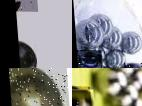ironball: (7, 68, 70, 105), (87, 68, 125, 96), (72, 18, 103, 47), (110, 82, 141, 105), (115, 33, 141, 57), (120, 68, 141, 97), (17, 39, 37, 68), (74, 50, 101, 68), (101, 49, 121, 68), (72, 86, 90, 105), (107, 68, 141, 78), (113, 96, 141, 105), (14, 0, 36, 11), (121, 62, 141, 68)
